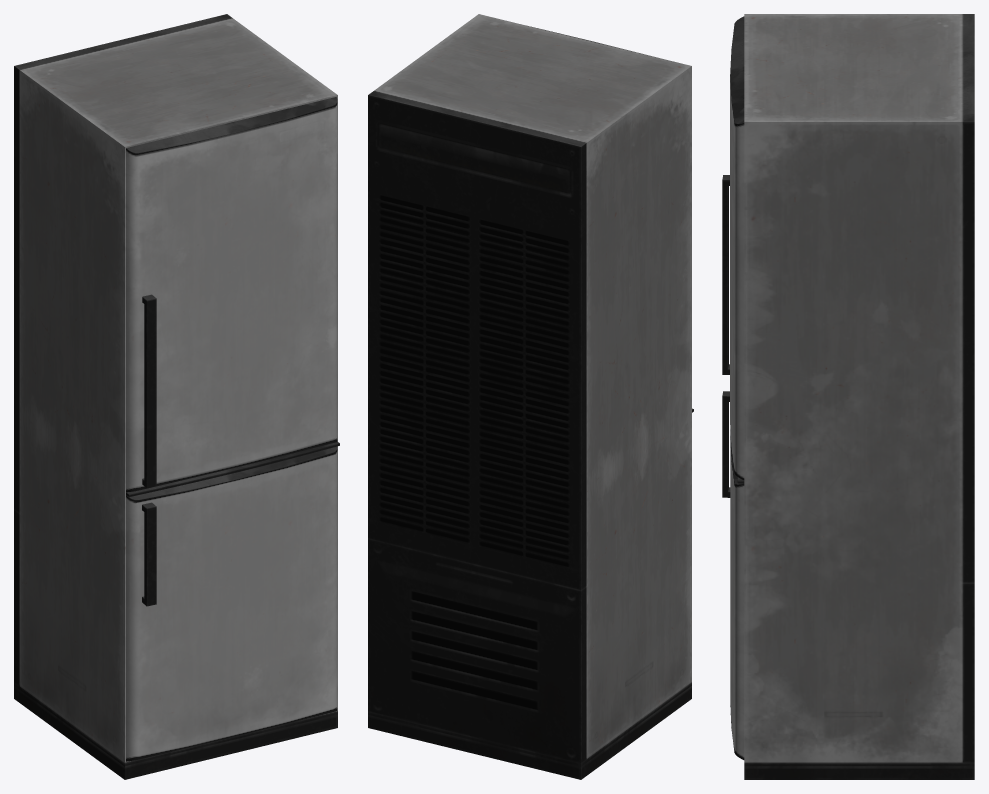
Rendered from SM_Refrigerator1.fbx.
3 views of the same model, side by side, from view 1: azimuth 30°, elevation 25°; view 2: azimuth 150°, elevation 25°; view 3: azimuth 270°, elevation 25° (orthographic). The views are drawn at different scales.
Parts seen in each view (by area): view 1: SM_Refrigerator1_LOD0; view 2: SM_Refrigerator1_LOD0; view 3: SM_Refrigerator1_LOD0.
Boxes of the visible parts, left/top/right/bottom form: SM_Refrigerator1_LOD0: left=14, top=14, right=339, bottom=779; SM_Refrigerator1_LOD0: left=368, top=14, right=693, bottom=779; SM_Refrigerator1_LOD0: left=722, top=14, right=974, bottom=779.
Bounding box in the file's own units: 80.05 × 78.95 × 227.
